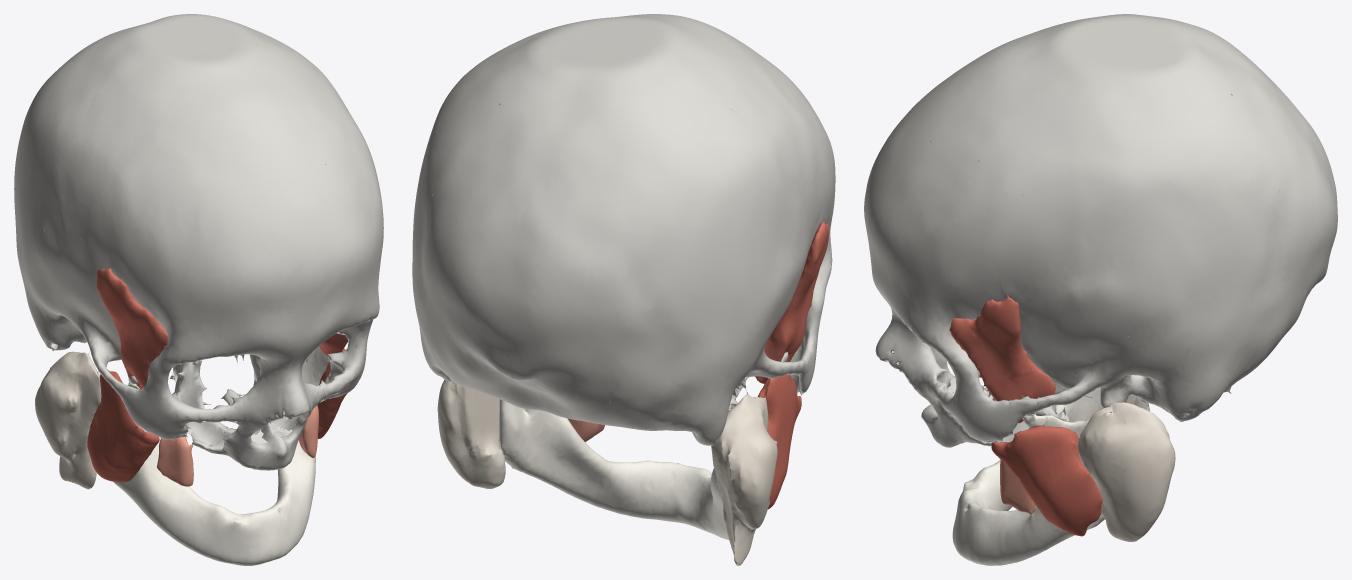
File: anatomy.glb
The picture shows the model from 3 angles, left to right: view 1: azimuth 30°, elevation 25°; view 2: azimuth 150°, elevation 25°; view 3: azimuth 270°, elevation 25°; orthographic projection. The views are drawn at different scales.
Visible parts, largest first — view 1: skull, mandible, parotidL, masseterL, temporalisL, zygomaticL, masseterR, zygomaticR; view 2: skull, mandible, parotidL, parotidR, temporalisL, masseterL; view 3: skull, parotidR, mandible, masseterR, temporalisR, zygomaticR.
Part boxes in pixels (left/top/right/bottom): skull: left=14, top=14, right=383, bottom=470; mandible: left=97, top=346, right=329, bottom=565; parotidL: left=35, top=351, right=101, bottom=489; masseterL: left=87, top=369, right=159, bottom=482; temporalisL: left=96, top=268, right=168, bottom=389; zygomaticL: left=156, top=436, right=193, bottom=486; masseterR: left=317, top=348, right=347, bottom=439; zygomaticR: left=298, top=405, right=318, bottom=457; skull: left=412, top=14, right=835, bottom=445; mandible: left=498, top=352, right=788, bottom=539; parotidL: left=711, top=390, right=777, bottom=565; parotidR: left=437, top=380, right=505, bottom=488; temporalisL: left=755, top=221, right=829, bottom=383; masseterL: left=758, top=374, right=801, bottom=509; skull: left=864, top=14, right=1337, bottom=447; parotidR: left=1077, top=402, right=1175, bottom=541; mandible: left=952, top=387, right=1104, bottom=565; masseterR: left=991, top=425, right=1102, bottom=536; temporalisR: left=949, top=294, right=1055, bottom=423; zygomaticR: left=1000, top=460, right=1035, bottom=514.
Size of the model in its own units: 140 by 213 by 179.
